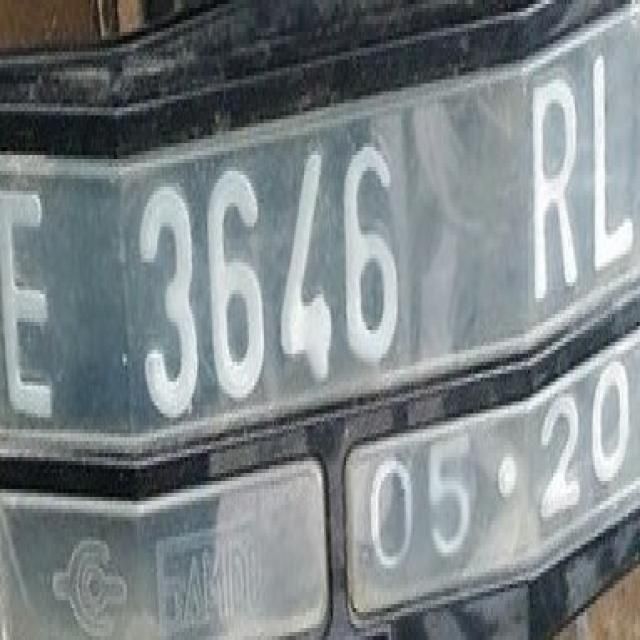plate: (2, 20, 638, 616)
